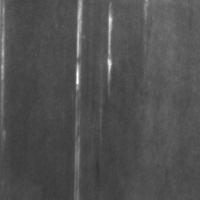scratches: (72, 0, 86, 94), (103, 1, 117, 92)
